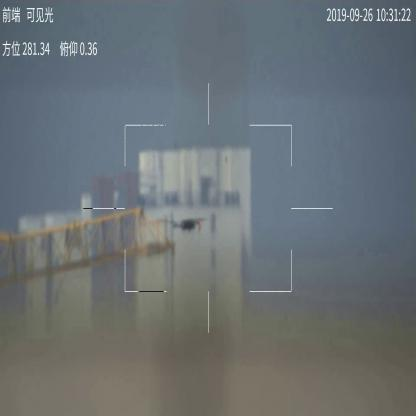uav: (167, 216, 208, 236)
